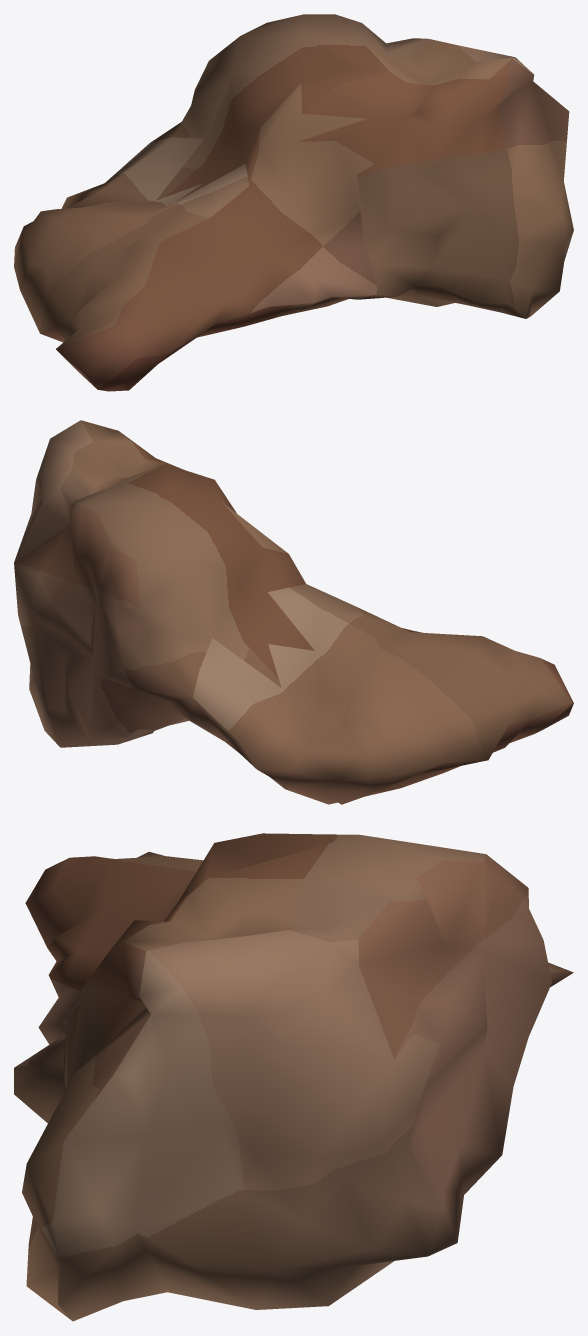
Rendered from ph_rock_5.glb.
The picture shows the model from 3 angles, top to bottom: view 1: azimuth 30°, elevation 25°; view 2: azimuth 150°, elevation 25°; view 3: azimuth 270°, elevation 25°; orthographic projection. The views are drawn at different scales.
Parts seen in each view (by area): view 1: ph_rock_5_lod1; view 2: ph_rock_5_lod1; view 3: ph_rock_5_lod1.
Part boxes in pixels (x1,y1,x2,y2): ph_rock_5_lod1: (14, 14, 573, 391); ph_rock_5_lod1: (14, 420, 573, 804); ph_rock_5_lod1: (14, 833, 573, 1321).
Bounding box in the file's own units: 0.147 × 0.0709 × 0.0888.
Materials: 1 (1 with a texture image).
